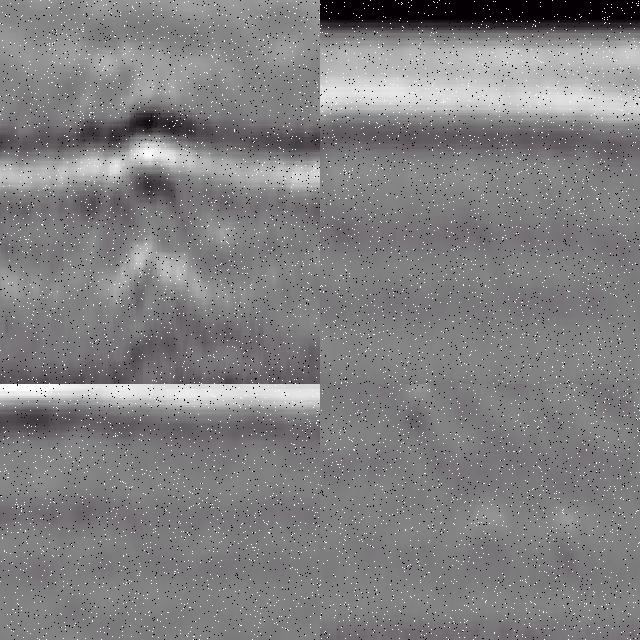loose: (27, 69, 240, 193)
